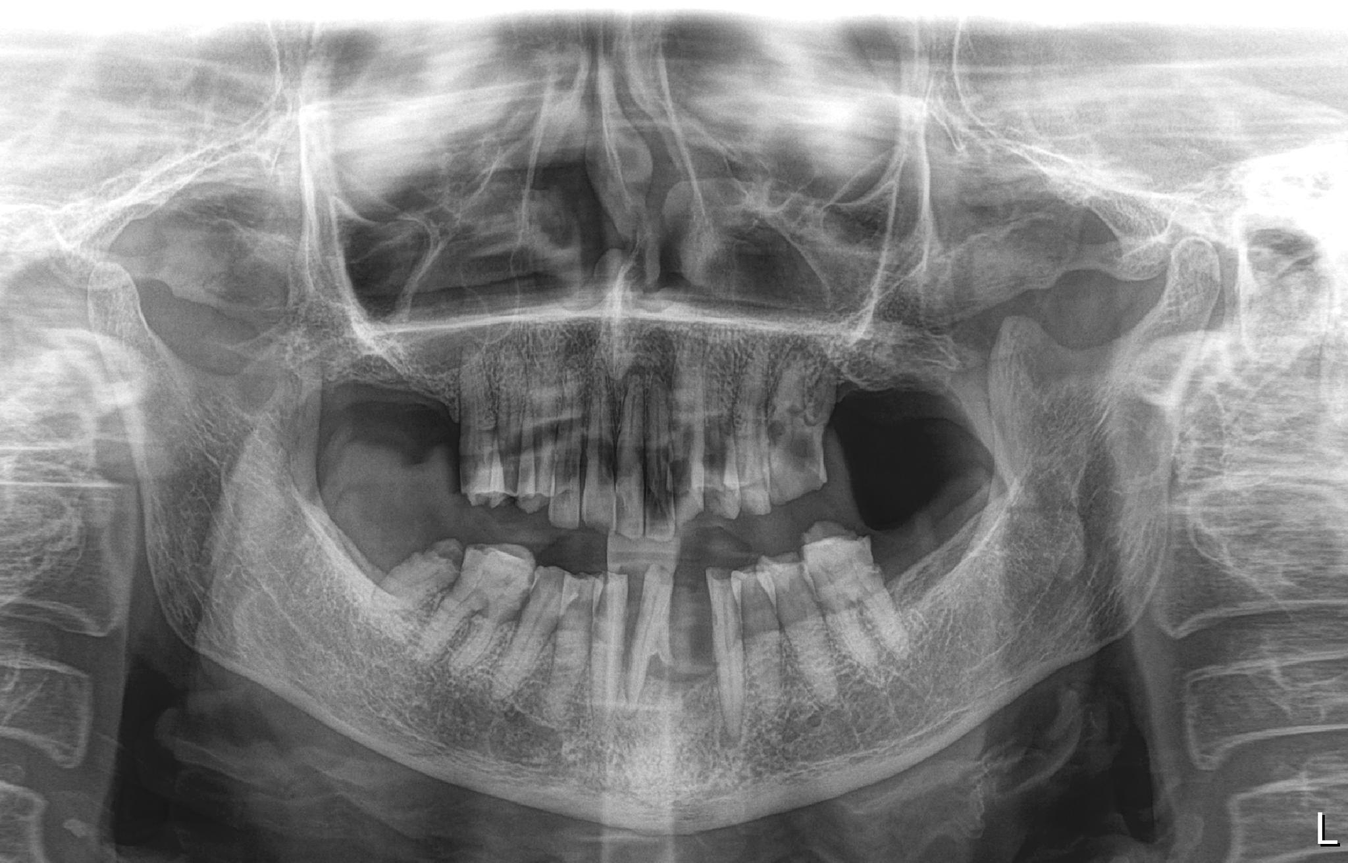Missing Tooth: (298, 335, 464, 465), (293, 502, 394, 625), (938, 345, 989, 477), (676, 574, 719, 695), (833, 357, 877, 464), (890, 360, 929, 466)
Retained Root: (418, 531, 460, 620)
